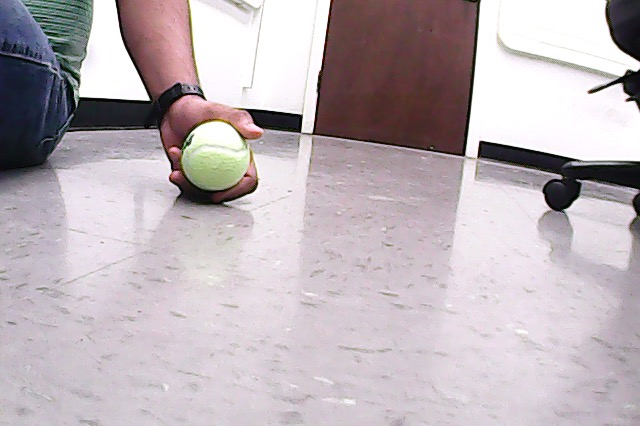ball: (177, 119, 254, 195)
